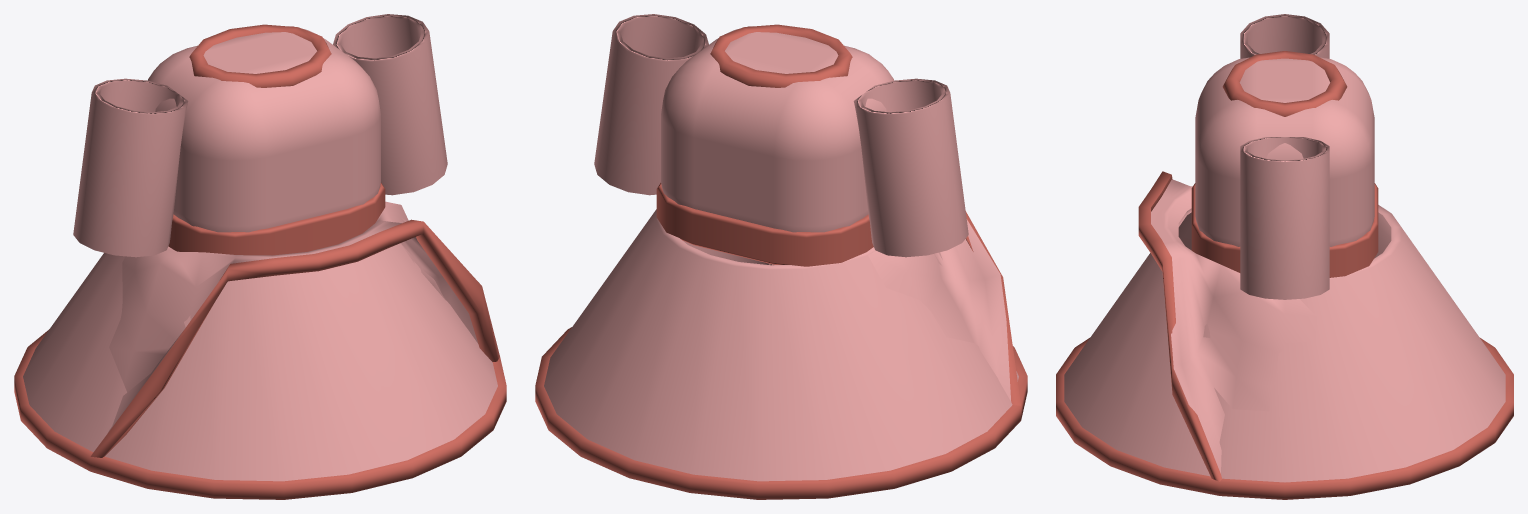
The model's file is ancient_sashed_robe.glb.
The picture shows the model from 3 angles, left to right: view 1: azimuth 30°, elevation 25°; view 2: azimuth 150°, elevation 25°; view 3: azimuth 270°, elevation 25°; orthographic projection. The views are drawn at different scales.
Visible parts, largest first — view 1: ancient_sashed_robe_Body, ancient_sashed_robe_Body_sit, ancient_sashed_robe_ArmL, ancient_sashed_robe_ArmR; view 2: ancient_sashed_robe_Body, ancient_sashed_robe_Body_sit, ancient_sashed_robe_ArmL, ancient_sashed_robe_ArmR; view 3: ancient_sashed_robe_Body, ancient_sashed_robe_Body_sit, ancient_sashed_robe_ArmR, ancient_sashed_robe_ArmL.
Boxes of the visible parts, bbox=[...] form: ancient_sashed_robe_Body: bbox=[14, 24, 506, 499]; ancient_sashed_robe_Body_sit: bbox=[90, 51, 499, 457]; ancient_sashed_robe_ArmL: bbox=[73, 78, 188, 257]; ancient_sashed_robe_ArmR: bbox=[333, 14, 447, 195]; ancient_sashed_robe_Body: bbox=[535, 24, 1027, 499]; ancient_sashed_robe_Body_sit: bbox=[656, 49, 1020, 405]; ancient_sashed_robe_ArmL: bbox=[853, 78, 968, 257]; ancient_sashed_robe_ArmR: bbox=[594, 14, 708, 195]; ancient_sashed_robe_Body: bbox=[1056, 51, 1513, 499]; ancient_sashed_robe_Body_sit: bbox=[1138, 101, 1391, 481]; ancient_sashed_robe_ArmR: bbox=[1240, 137, 1329, 299]; ancient_sashed_robe_ArmL: bbox=[1240, 14, 1329, 58].
Bounding box in the file's own units: 0.748 × 0.6289 × 0.7404.
